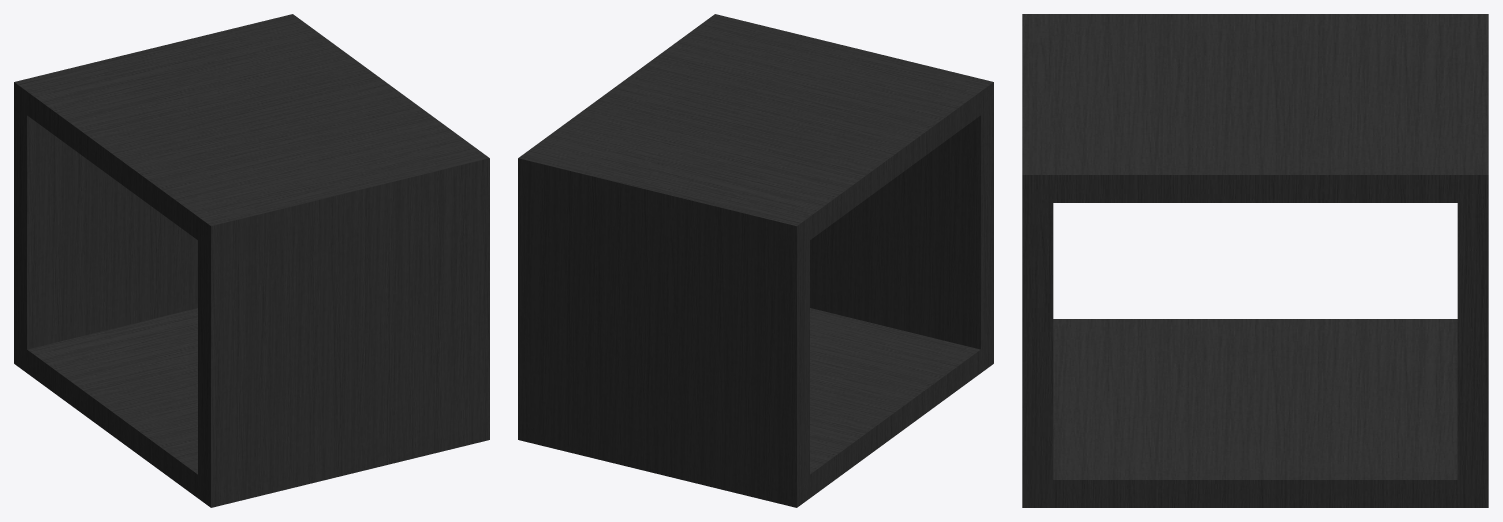
The model's file is ShortCabinet.fbx.
The picture shows the model from 3 angles, left to right: view 1: azimuth 30°, elevation 25°; view 2: azimuth 150°, elevation 25°; view 3: azimuth 270°, elevation 25°; orthographic projection. The views are drawn at different scales.
Parts seen in each view (by area): view 1: ShortCabinet; view 2: ShortCabinet; view 3: ShortCabinet.
Part boxes in pixels (x1=…): ShortCabinet: x1=14, y1=14, x2=489, y2=507; ShortCabinet: x1=518, y1=14, x2=993, y2=507; ShortCabinet: x1=1022, y1=14, x2=1488, y2=507.
Bounding box in the file's own units: 53.94 × 52.08 × 66.03.
